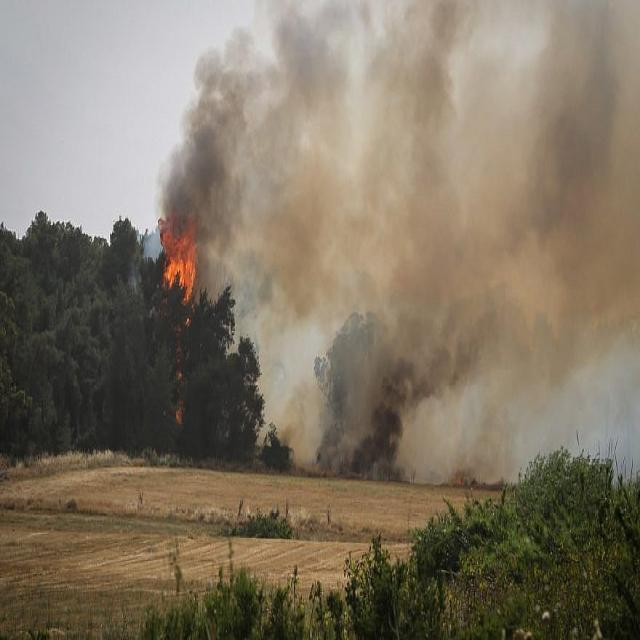Fire: (158, 210, 197, 310)
Smoke: (310, 0, 640, 482), (151, 0, 640, 309)
